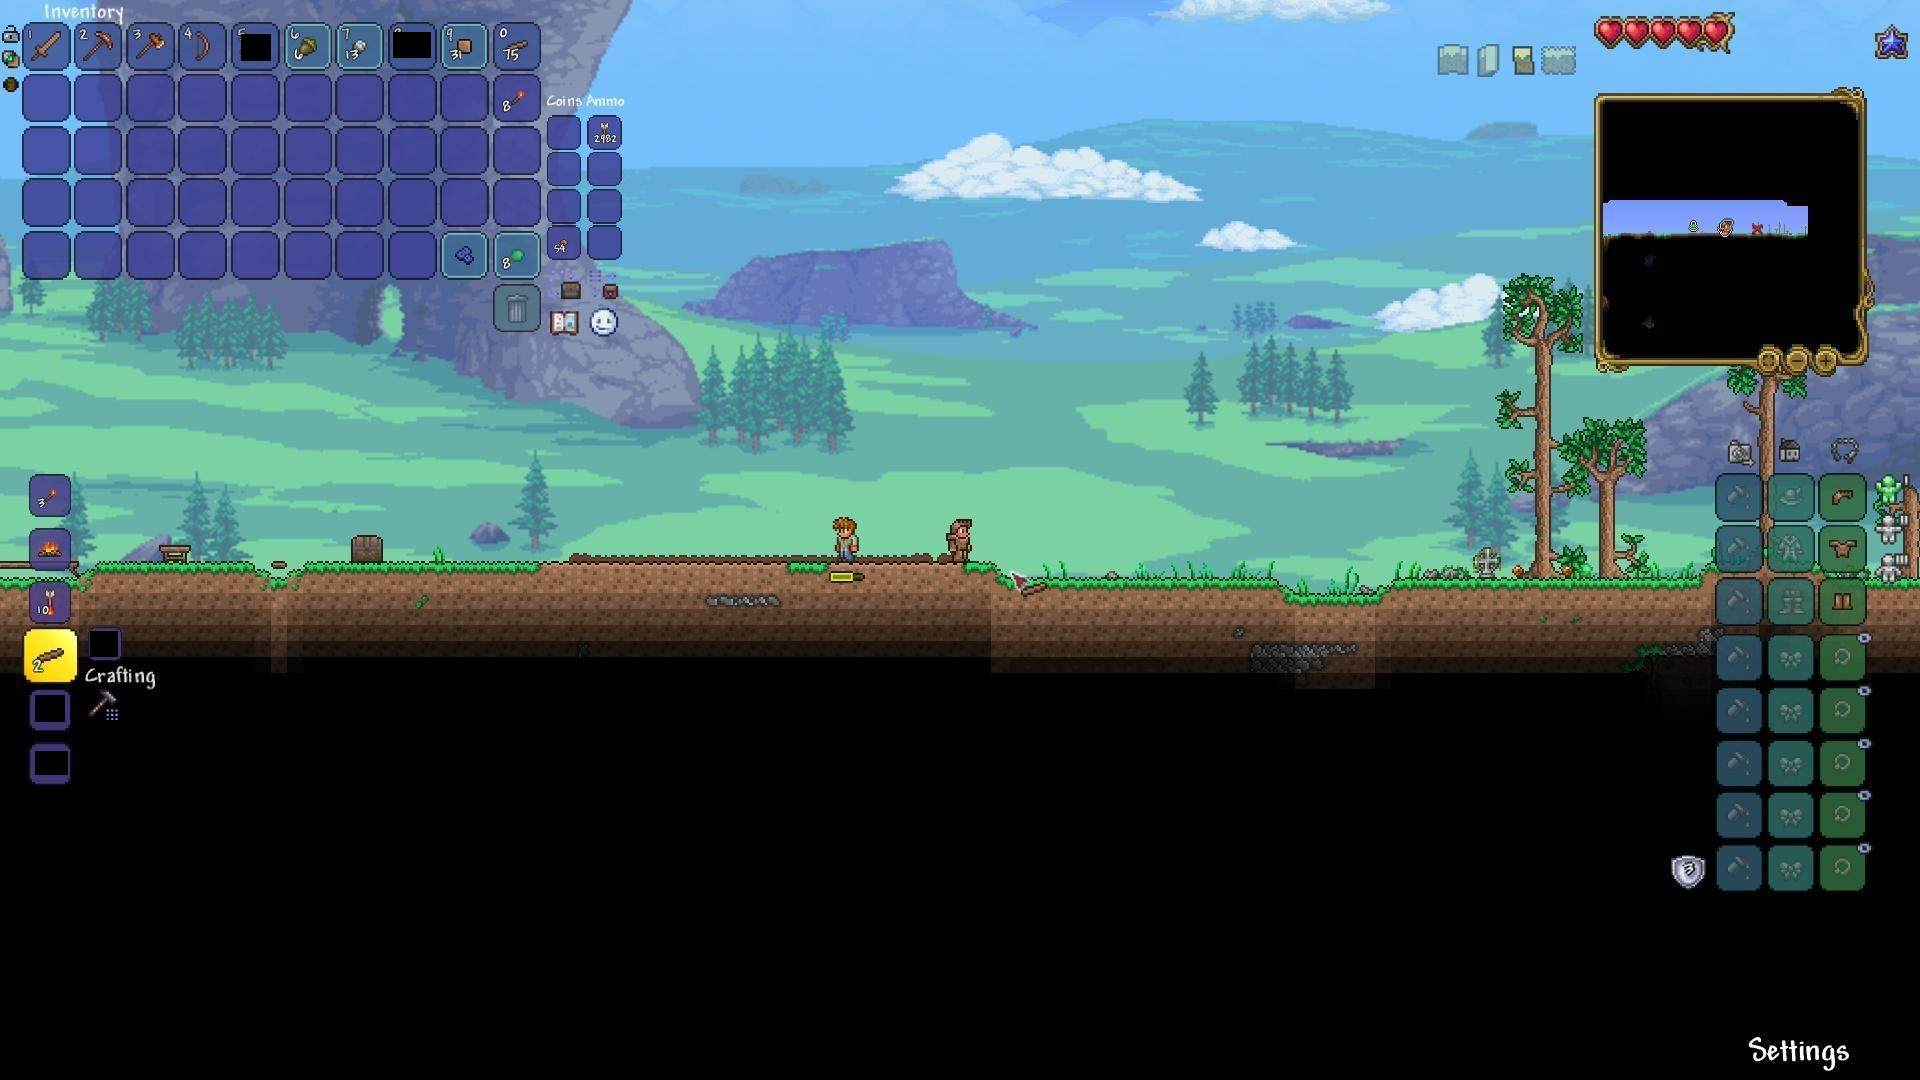breastplate: (1830, 538, 1859, 559)
helmet: (1828, 483, 1858, 510)
legs: (1832, 588, 1857, 616)
workbench: (156, 541, 193, 566)
